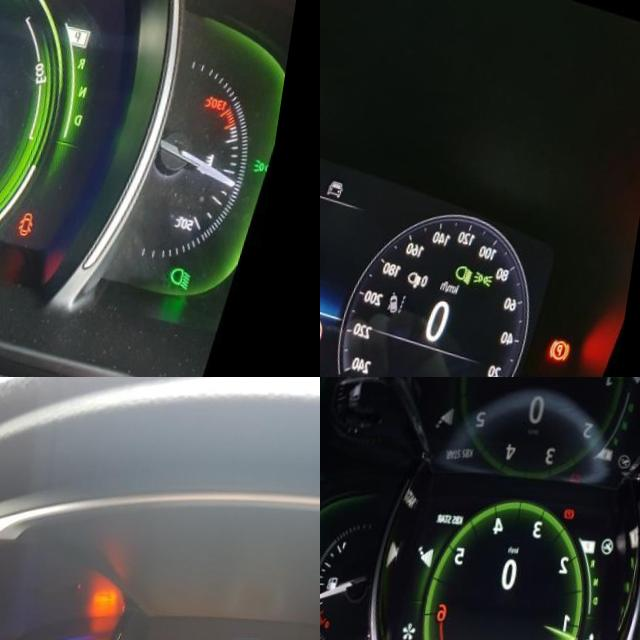Doors: (31, 204, 51, 231)
Low beam: (183, 256, 210, 281), (464, 253, 487, 277)
SideLamp: (483, 260, 507, 280)
